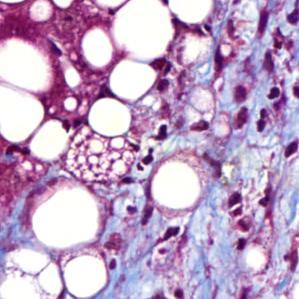steatosis: (85, 97, 136, 140)
